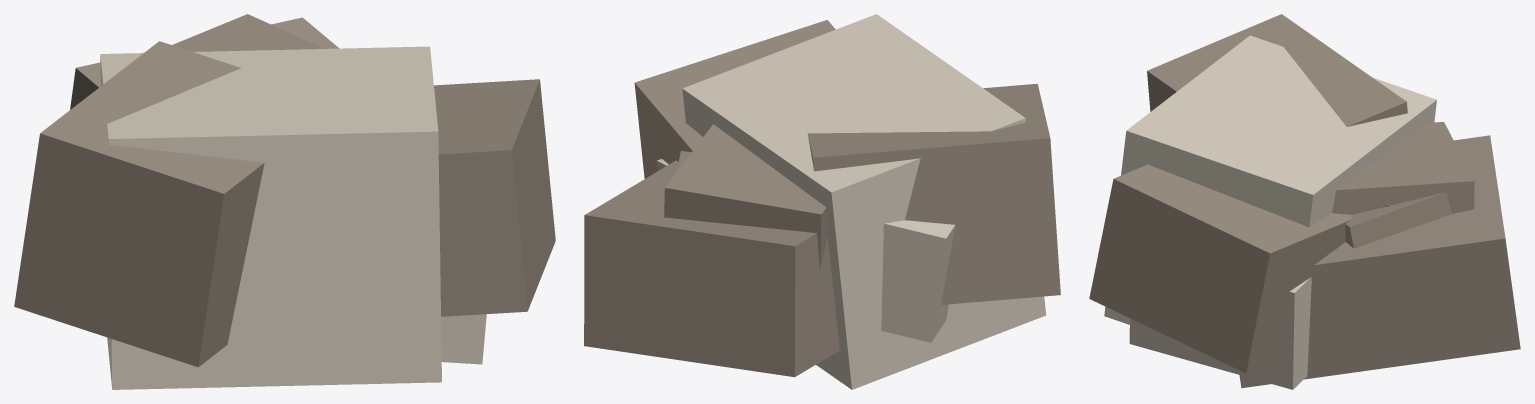
The model's file is rockSingle.glb.
The picture shows the model from 3 angles, left to right: view 1: azimuth 30°, elevation 25°; view 2: azimuth 150°, elevation 25°; view 3: azimuth 270°, elevation 25°; orthographic projection. The views are drawn at different scales.
Parts seen in each view (by area): view 1: rockSingle_concrete, rockSingle_concreteDark; view 2: rockSingle_concreteDark, rockSingle_concrete; view 3: rockSingle_concreteDark, rockSingle_concrete.
Boxes of the visible parts, box(x1,y1,x2,y2) form: rockSingle_concrete: box(100, 46, 486, 389); rockSingle_concreteDark: box(14, 14, 555, 367); rockSingle_concreteDark: box(584, 20, 1060, 377); rockSingle_concrete: box(656, 14, 1046, 389); rockSingle_concreteDark: box(1089, 14, 1520, 388); rockSingle_concrete: box(1104, 35, 1436, 389).
Bounding box in the file's own units: 3.11 × 1.56 × 2.85.
